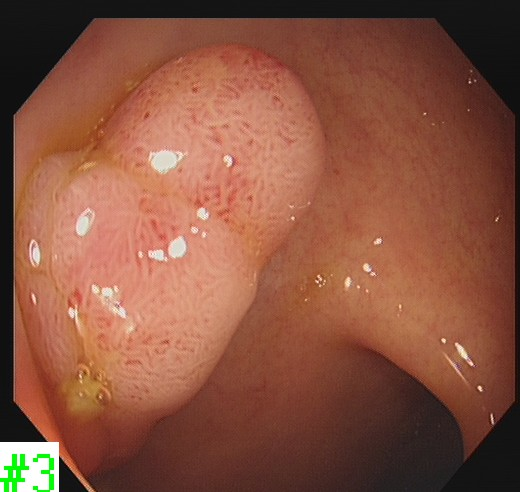adenoma: (15, 42, 329, 479)
